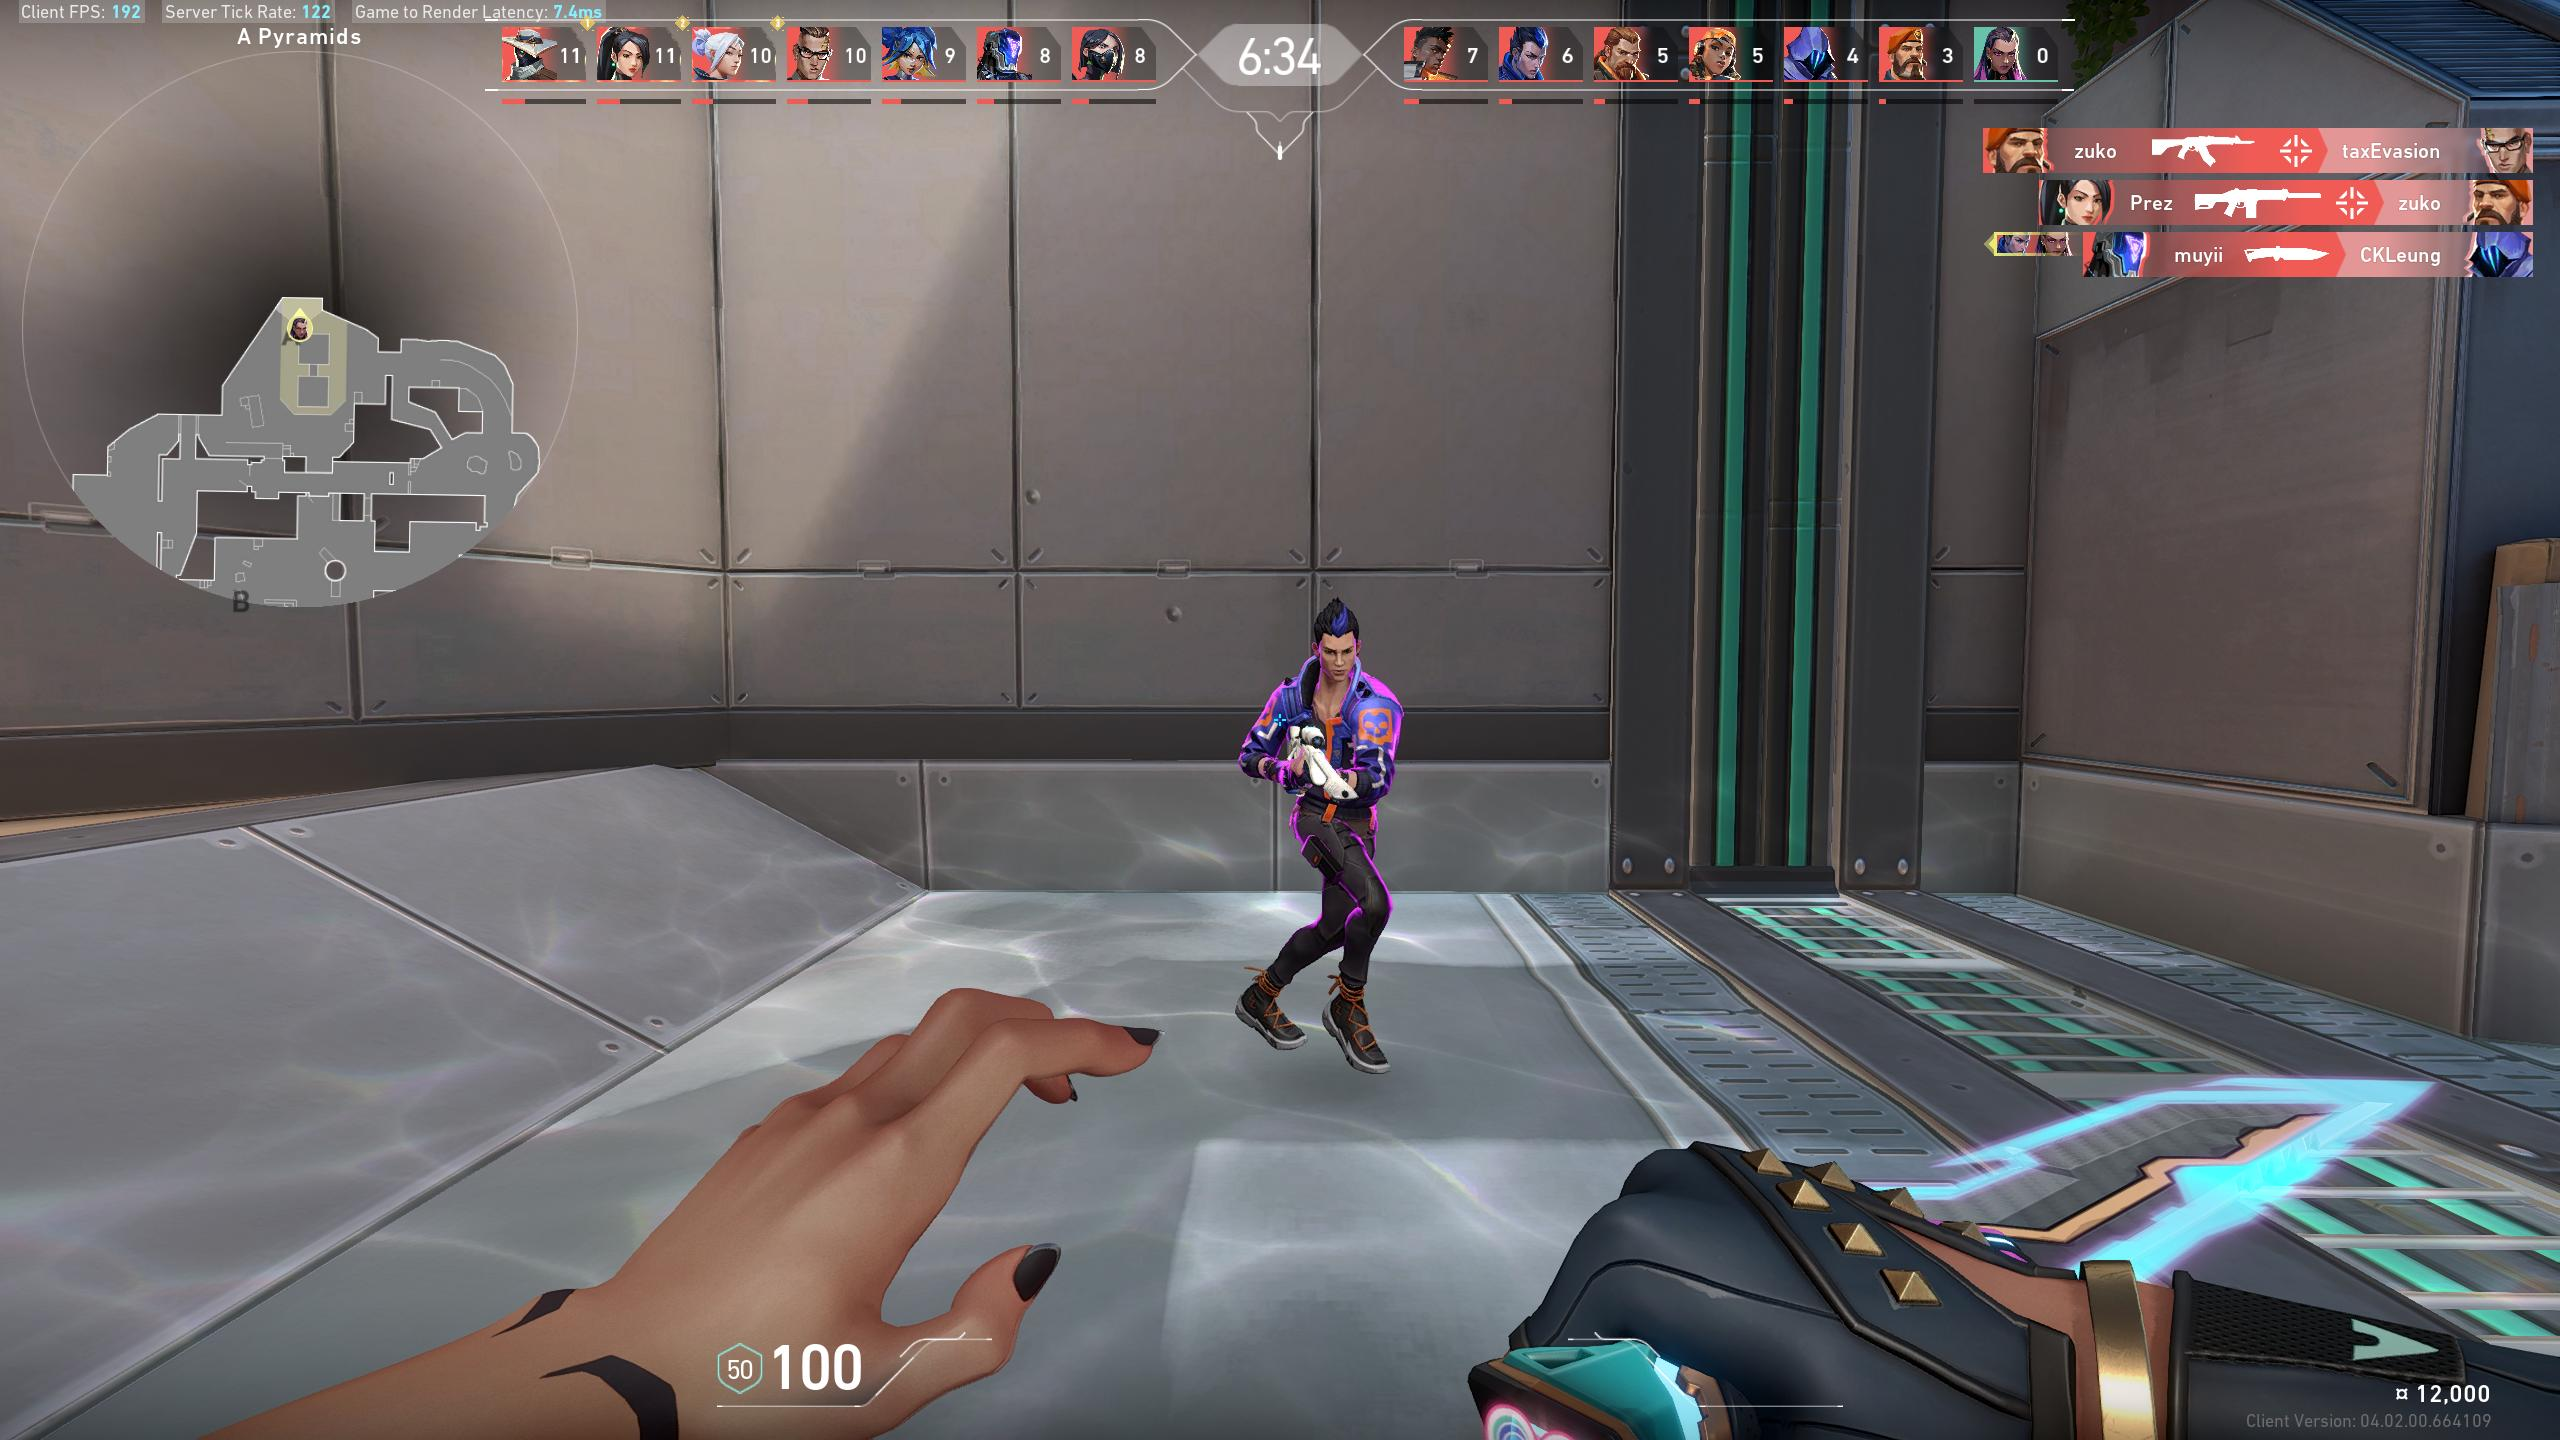enemyBody: (1310, 682, 1368, 782)
enemyHead: (1319, 622, 1357, 679)
